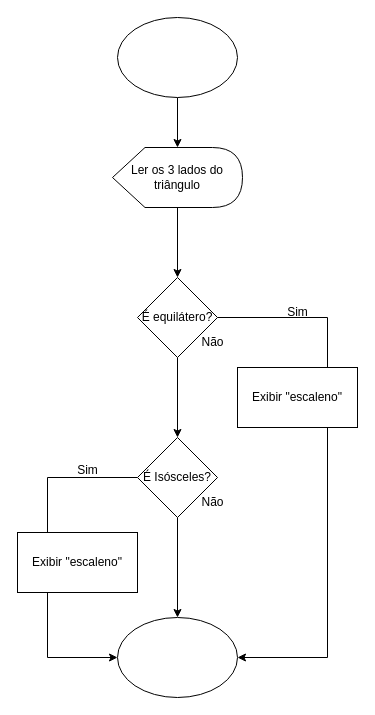
The diagram is 375 pixels wide and 715 high, and some of its shapes have lost their labels. Each missing label, with the centre of its shape:
"Fim" belongs at point (177, 657).
"inicio" belongs at point (177, 57).
